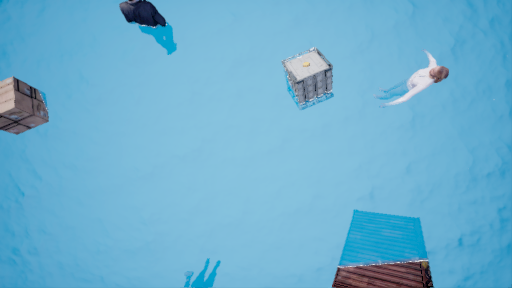person: (118, 2, 196, 61), (388, 53, 445, 106)
